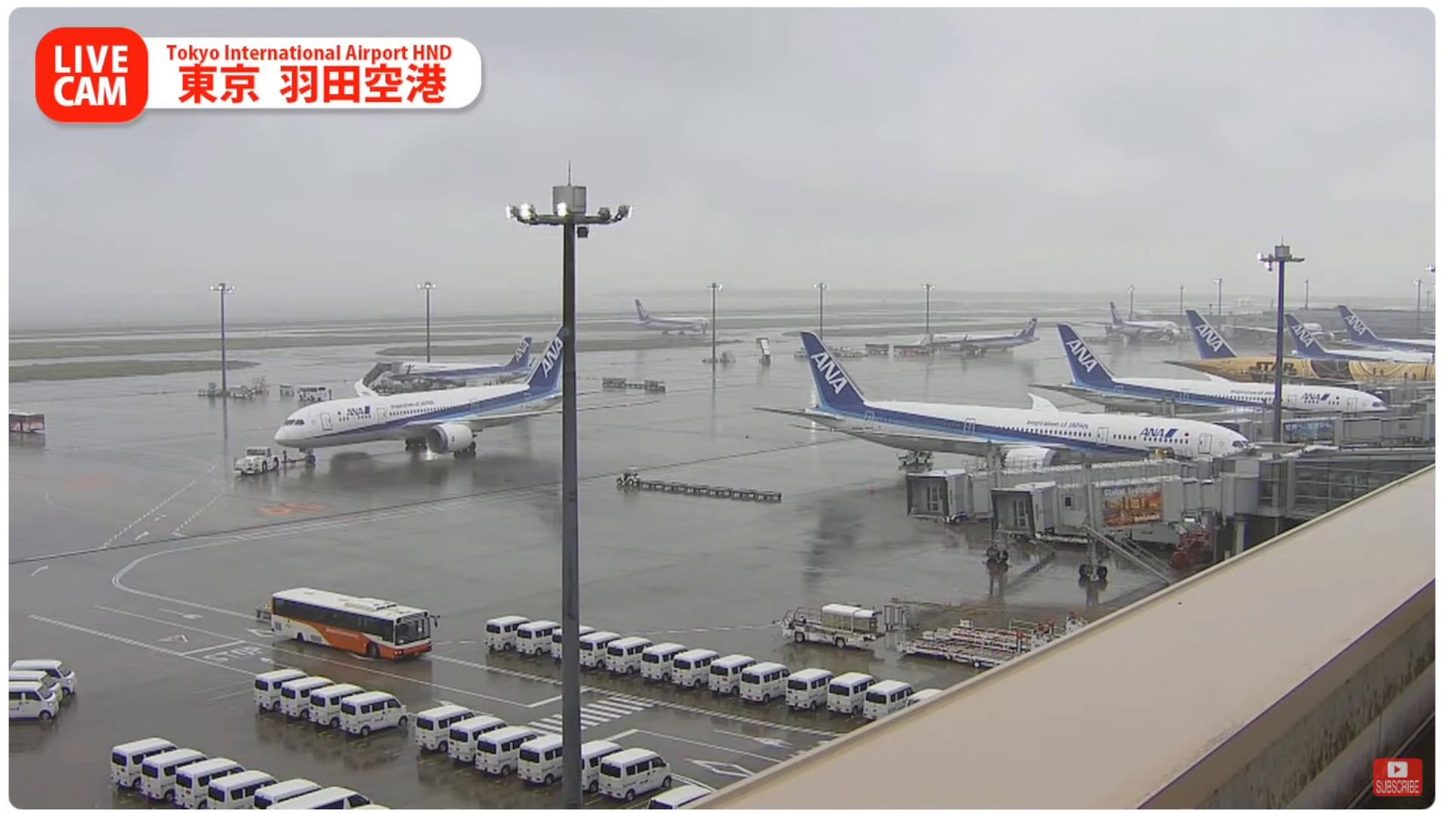APS: (235, 446, 282, 477)
Aerobridge: (906, 440, 1211, 565), (991, 450, 1262, 587)
Airplane: (274, 318, 659, 466)
Dolly: (638, 478, 782, 502)
JCPL: (896, 624, 1045, 669), (932, 616, 1091, 656)
Skyloader: (783, 601, 886, 649)
Tractor: (617, 467, 642, 488)
Window: (1295, 452, 1436, 515)
